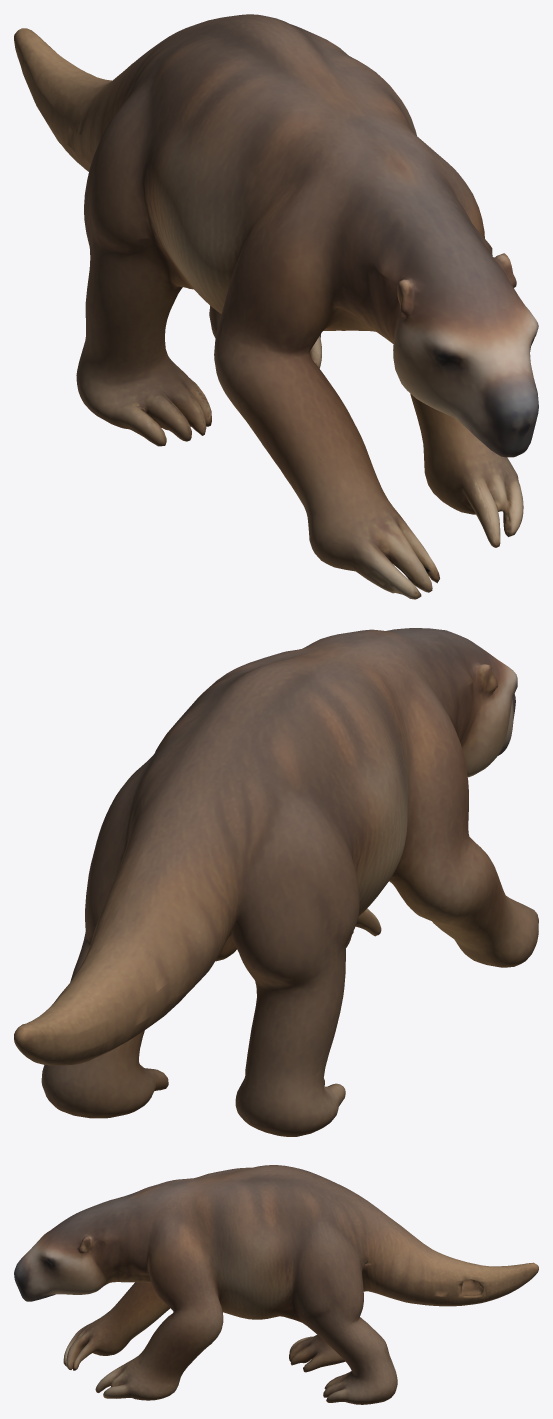
3 views of the same model, one above another, from view 1: azimuth 30°, elevation 25°; view 2: azimuth 150°, elevation 25°; view 3: azimuth 270°, elevation 25° (orthographic). The views are drawn at different scales.
Parts seen in each view (by area): view 1: world; view 2: world; view 3: world.
Part boxes in pixels (bbox=[...]): world: bbox=[14, 14, 538, 599]; world: bbox=[14, 628, 538, 1136]; world: bbox=[14, 1165, 538, 1404].
Size of the model in its own units: 0.8304 by 1.21 by 2.7.
Materials: 1 (1 with a texture image).
